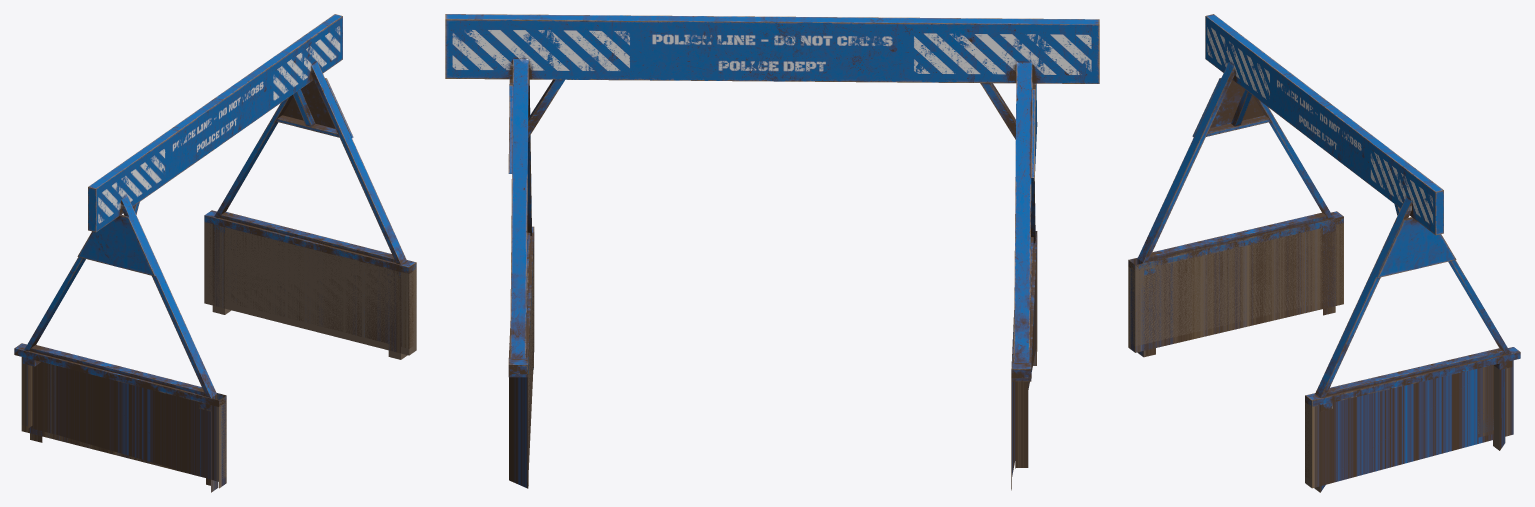
File: SlideLowBarrier.glb
The picture shows the model from 3 angles, left to right: view 1: azimuth 30°, elevation 25°; view 2: azimuth 150°, elevation 25°; view 3: azimuth 270°, elevation 25°; orthographic projection. The views are drawn at different scales.
Parts seen in each view (by area): view 1: Cube_Material.001_0_4; view 2: Cube_Material.001_0_4; view 3: Cube_Material.001_0_4.
Part boxes in pixels (left/top/right/bottom): Cube_Material.001_0_4: left=14, top=14, right=416, bottom=492; Cube_Material.001_0_4: left=445, top=14, right=1099, bottom=490; Cube_Material.001_0_4: left=1128, top=14, right=1520, bottom=492.
Size of the model in its own units: 9.41 by 6.88 by 8.23.
Materials: 1 (1 with a texture image).
